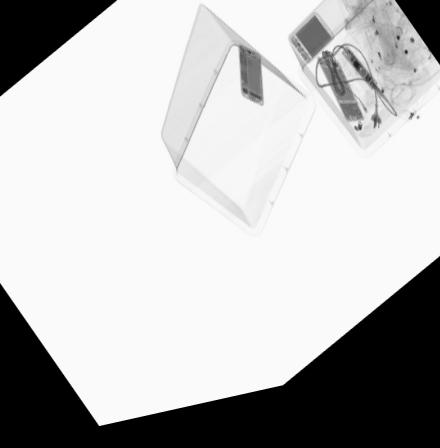Powerbank: (315, 72, 362, 138), (285, 21, 335, 78)
